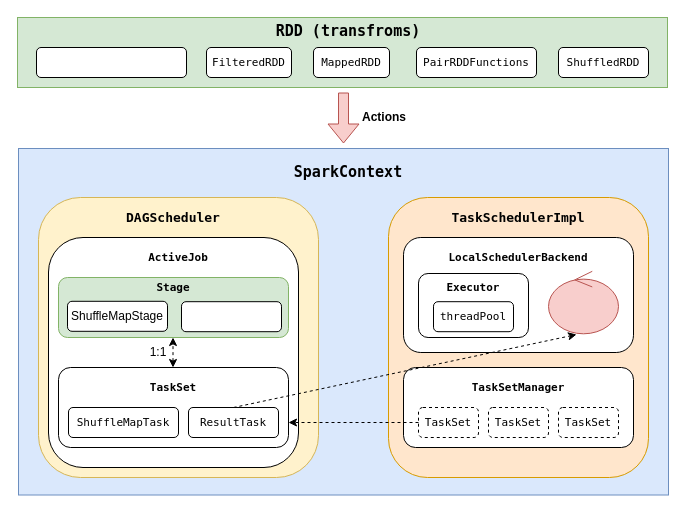
Some shapes in this 686 by 513 pixel diagram are drawn without their labels. Here are the shapes that lost their labels. From the top down, the centre of each, then its label:
the point at 111,62: ParallelCollectionRDD
the point at 231,316: ResultStage
the point at 583,302: run(Task)
